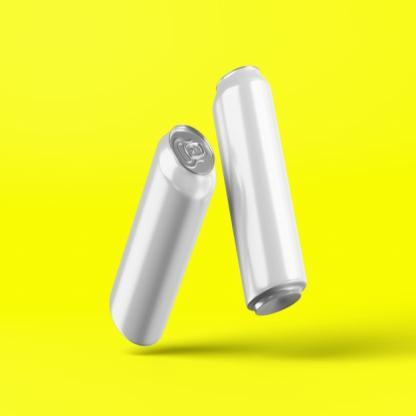metal: (111, 125, 214, 344), (214, 66, 304, 314)
